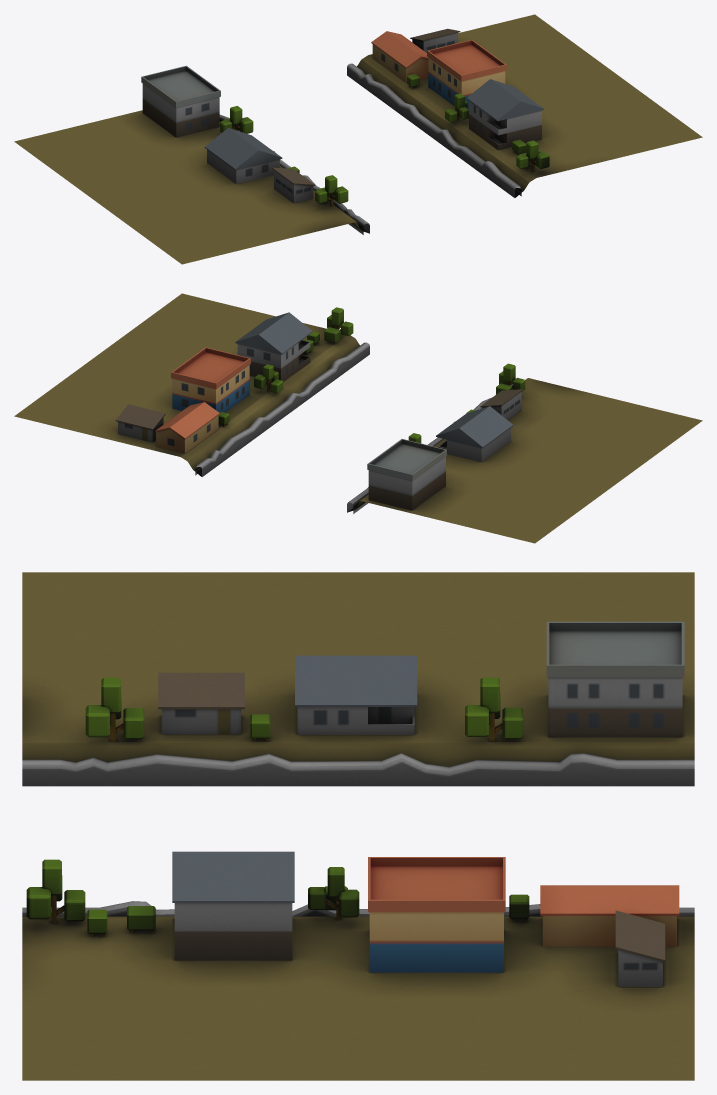
The model's file is unknown_env.fbx.
The picture shows the model from 3 angles, top to bottom: view 1: azimuth 30°, elevation 25°; view 2: azimuth 150°, elevation 25°; view 3: azimuth 270°, elevation 25°; orthographic projection. The views are drawn at different scales.
Visible parts, largest first — view 1: unknown_environment; view 2: unknown_environment; view 3: unknown_environment.
Boxes of the visible parts, x1,y1,x2,y2 form: unknown_environment: (14,14,702,264); unknown_environment: (14,293,702,543); unknown_environment: (22,572,694,1080).
Size of the model in its own units: 35806 by 3883 by 20000.
